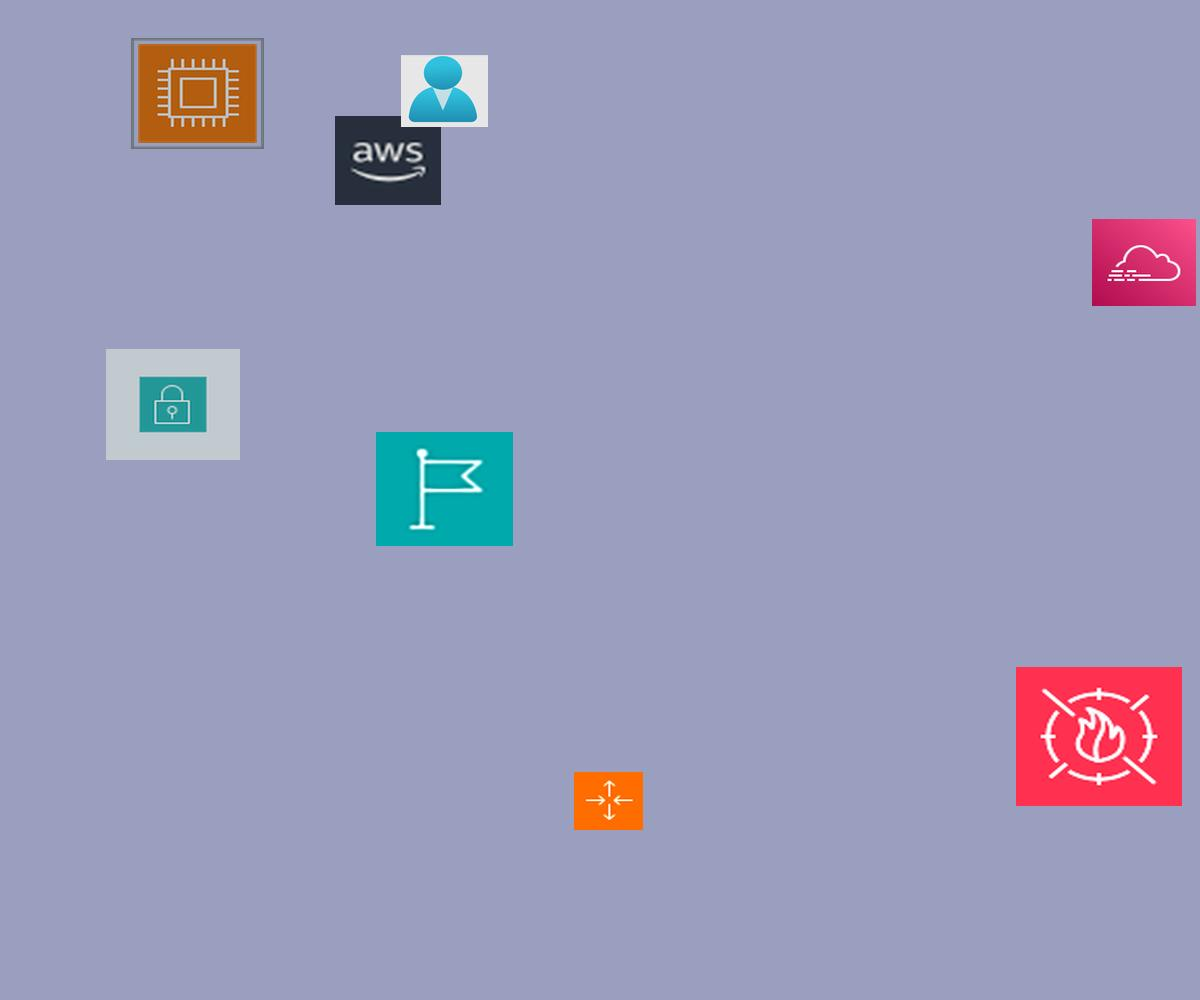AWS-Category_Compute: (131, 38, 264, 149)
AWS-Cloud-logo: (335, 116, 441, 205)
AWS-CloudTrail: (1092, 219, 1196, 306)
AWS-Private-subnet: (106, 349, 240, 460)
AWS-Region: (376, 432, 513, 546)
AWS-Scaling-group: (574, 772, 643, 830)
AWS-WAF: (1016, 667, 1182, 806)
Azure_users: (401, 55, 488, 127)
